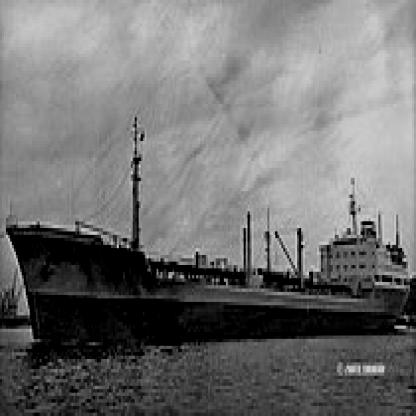Tanker: (4, 114, 414, 346)
